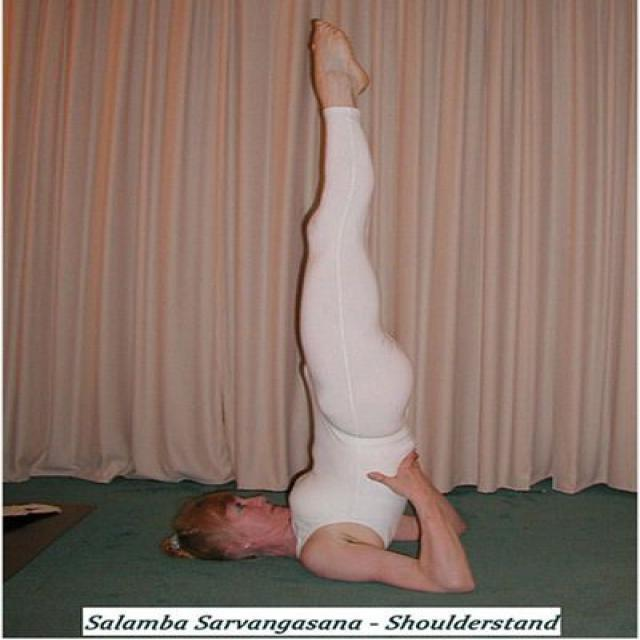yoga-pose shoulderstand: (158, 15, 490, 599)
